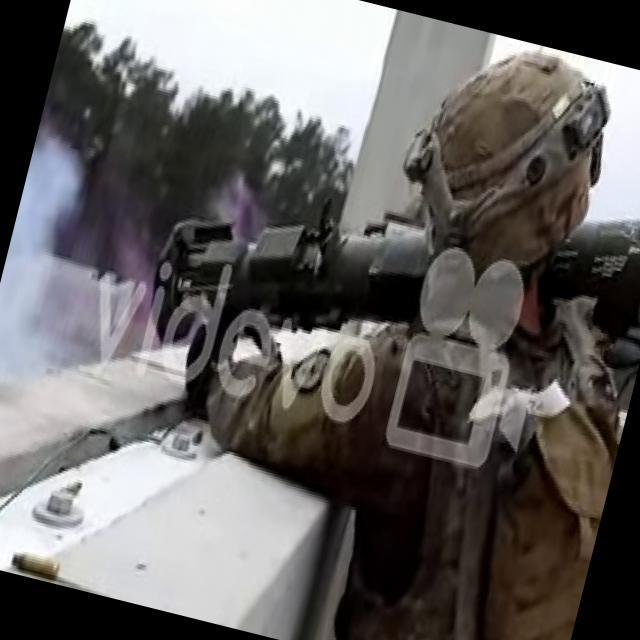rocket: (138, 107, 640, 459)
